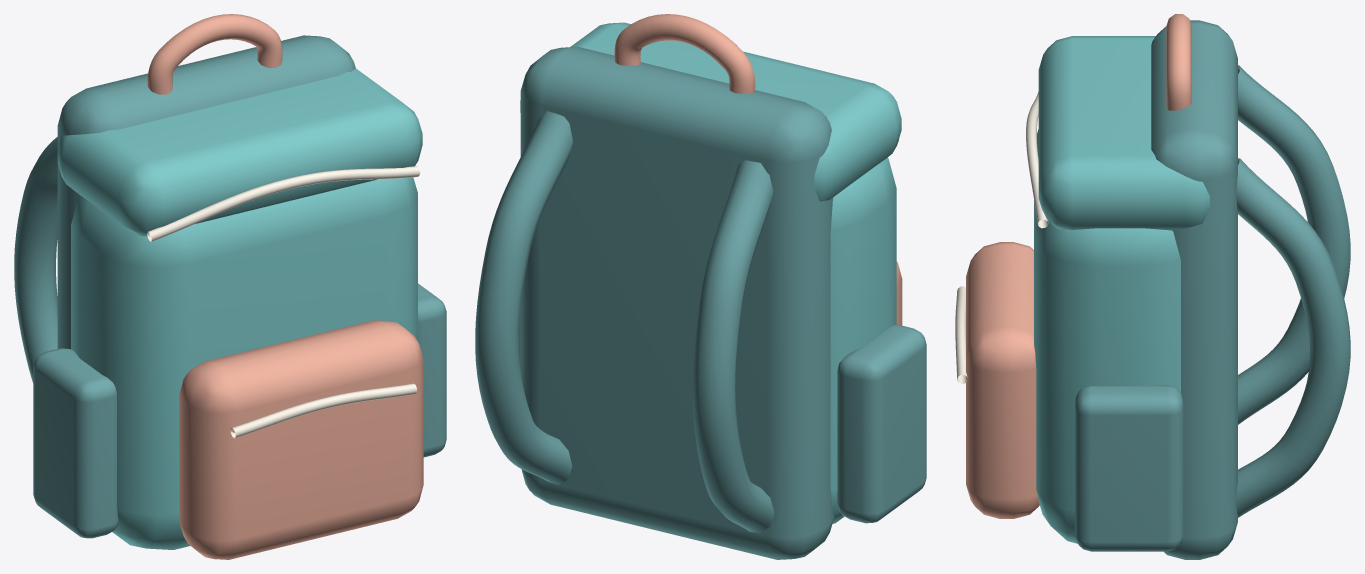
File: BackpackClosed.fbx
3 renders of one model, left to right at view 1: azimuth 30°, elevation 25°; view 2: azimuth 150°, elevation 25°; view 3: azimuth 270°, elevation 25°, orthographic. The views are drawn at different scales.
Visible parts, largest first — view 1: BagBody, FrontPocket, Lid, PaddedBack, SidePocket, PaddedStrap, CarryHandle, SidePocket.001, MainZip, PocketZip; view 2: PaddedBack, PaddedStrap.001, PaddedStrap, SidePocket, Lid, BagBody, CarryHandle; view 3: PaddedBack, BagBody, Lid, FrontPocket, SidePocket.001, PaddedStrap.001, PaddedStrap, CarryHandle, MainZip, PocketZip.
Part boxes in pixels (x1,y1,x2,y2): BagBody: (71,177,417,549); FrontPocket: (179,320,423,559); Lid: (57,68,422,236); PaddedBack: (57,35,355,349); SidePocket: (33,348,118,538); PaddedStrap: (14,137,57,382); CarryHandle: (147,14,282,94); SidePocket.001: (418,283,446,457); MainZip: (147,166,420,241); PocketZip: (230,383,416,438); PaddedBack: (520,46,834,559); PaddedStrap.001: (475,111,572,484); PaddedStrap: (693,160,774,533); SidePocket: (837,324,926,523); Lid: (520,22,901,201); BagBody: (830,157,896,523); CarryHandle: (614,14,755,93); PaddedBack: (1151,20,1237,559); BagBody: (1034,129,1180,543); Lid: (1038,36,1209,230); FrontPocket: (966,242,1039,518); SidePocket.001: (1075,385,1183,551); PaddedStrap.001: (1236,158,1350,517); PaddedStrap: (1238,65,1350,424); CarryHandle: (1166,14,1191,110); MainZip: (1026,91,1048,228); PocketZip: (955,286,967,383).
Size of the model in its own units: 47.1 by 58.58 by 43.64.
